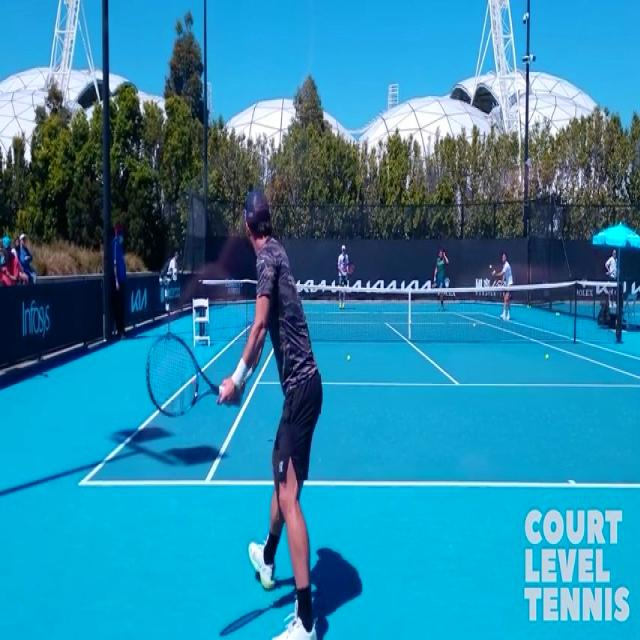backhand-ready: (133, 166, 345, 640)
